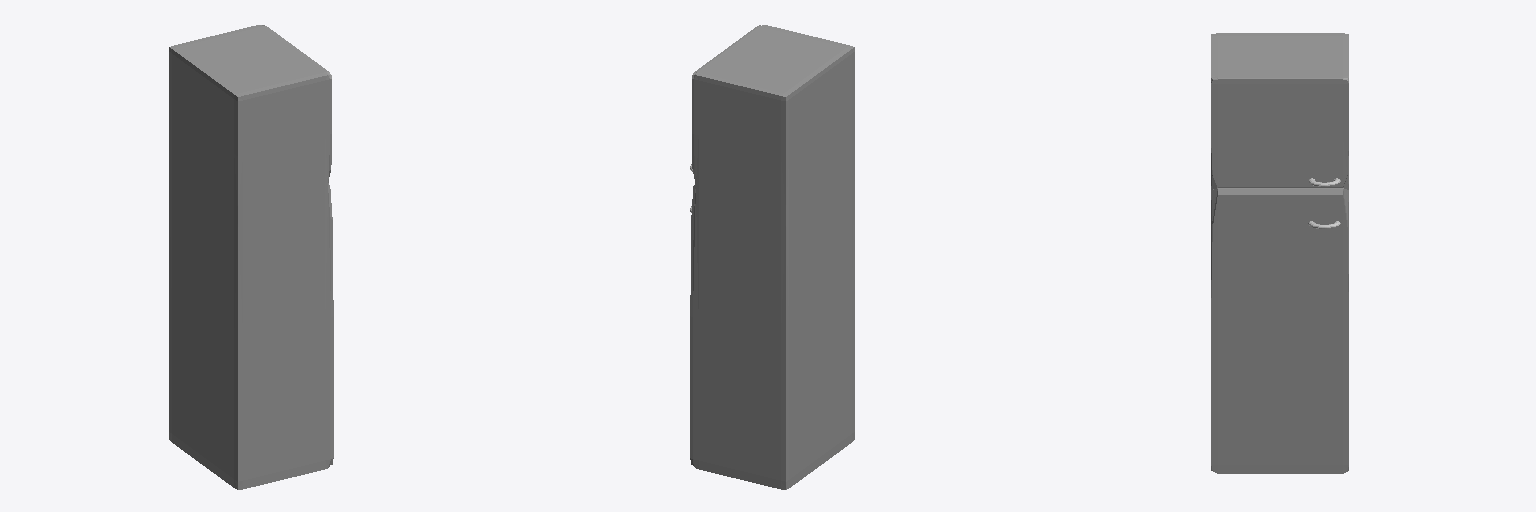
File: HLADILNIK.obj
3 renders of one model, left to right at view 1: azimuth 30°, elevation 25°; view 2: azimuth 150°, elevation 25°; view 3: azimuth 270°, elevation 25°, orthographic.
Visible parts, largest first — view 1: Cube; view 2: Cube; view 3: Cube.
Part boxes in pixels (x1,y1,x2,y2): Cube: (169,25,333,489); Cube: (690,25,854,489); Cube: (1211,33,1348,473).
Bounding box in the file's own units: 2.34 × 8.32 × 2.65.